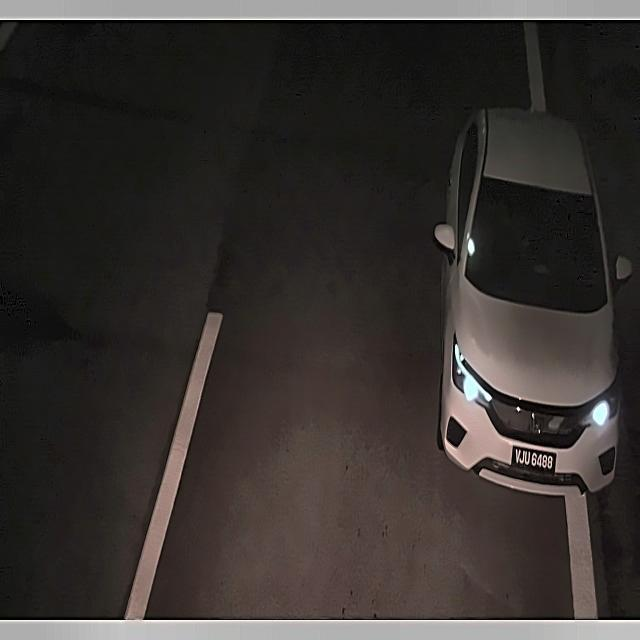car: (510, 441, 560, 478)
